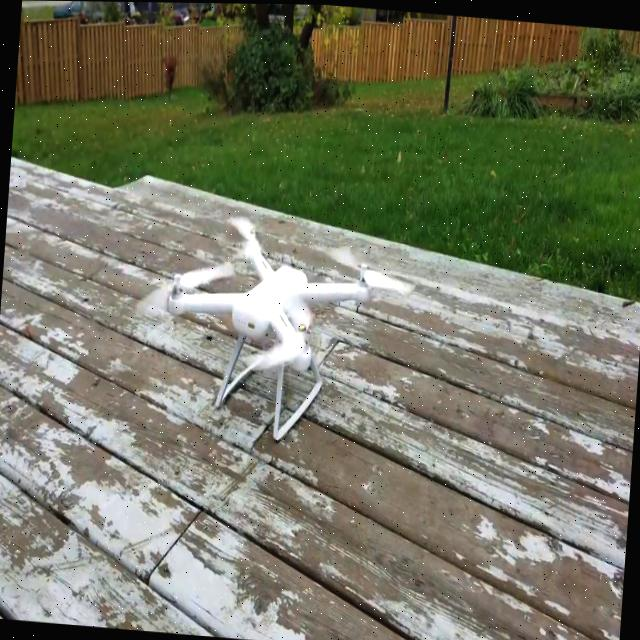drone: (111, 180, 428, 486)
